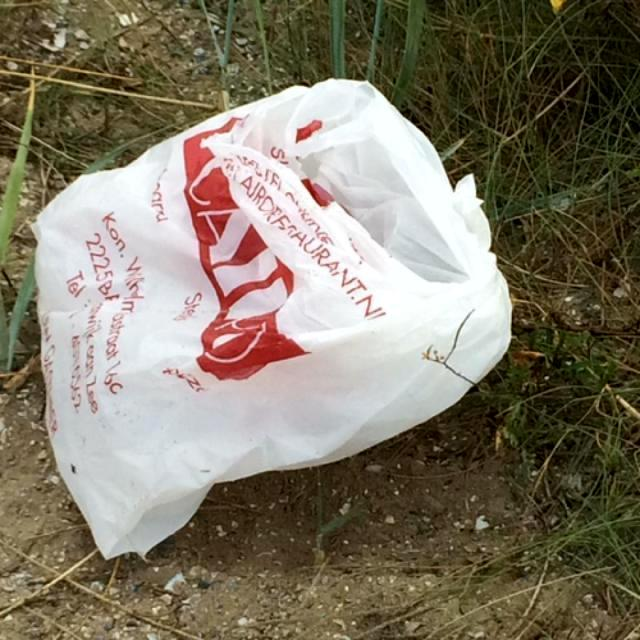Paper: (27, 72, 515, 564)
